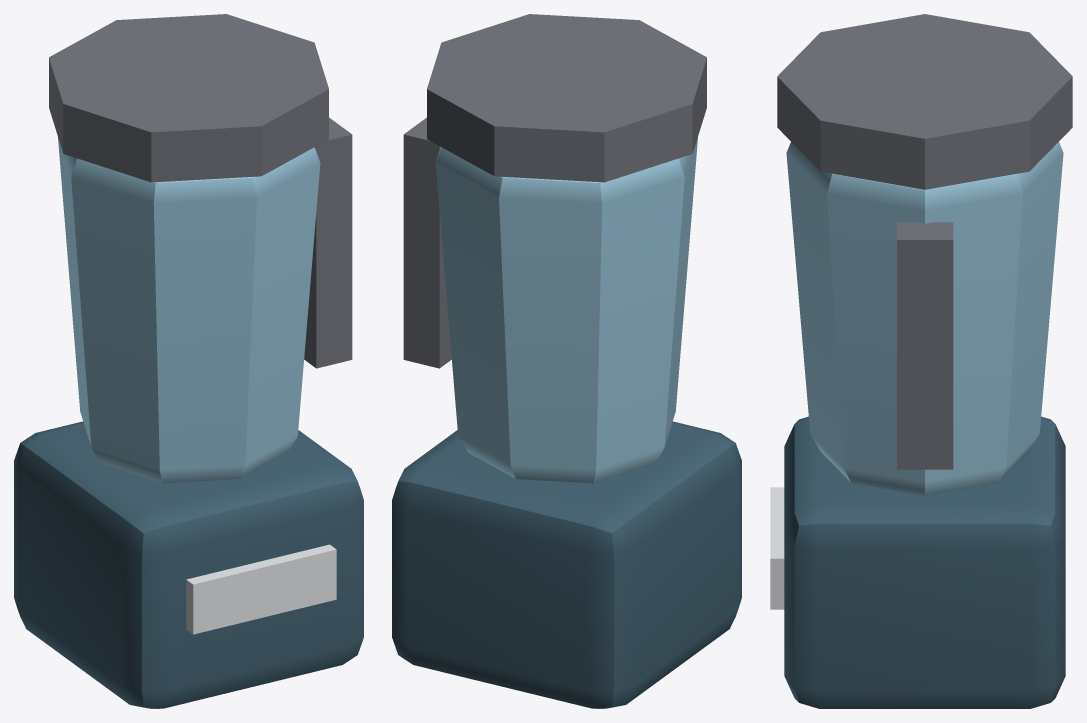
The model's file is BlenderMachine.fbx.
3 views of the same model, side by side, from view 1: azimuth 30°, elevation 25°; view 2: azimuth 150°, elevation 25°; view 3: azimuth 270°, elevation 25° (orthographic).
Visible parts, largest first — view 1: BlenderMachine; view 2: BlenderMachine; view 3: BlenderMachine.
Boxes of the visible parts, x1,y1,x2,y2 form: BlenderMachine: (14, 14, 363, 708); BlenderMachine: (392, 14, 741, 708); BlenderMachine: (770, 14, 1072, 708).
Bounding box in the file's own units: 0.23 × 0.46 × 0.215.
